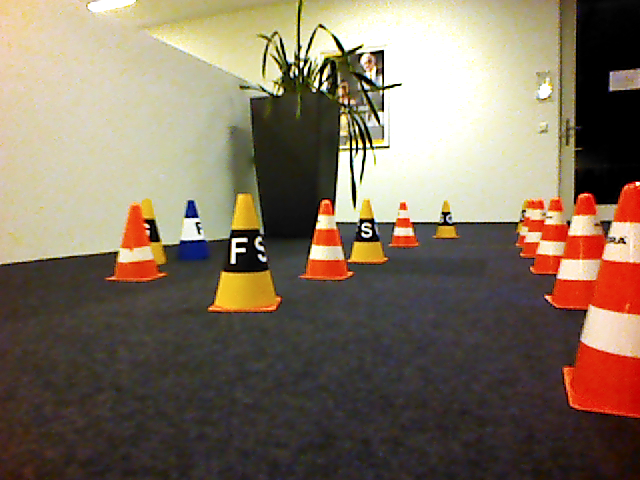orangeconesmall: (546, 193, 601, 311), (299, 199, 352, 281), (532, 198, 565, 275), (388, 202, 420, 248)
yellowcone: (208, 192, 283, 315), (347, 198, 389, 266)
